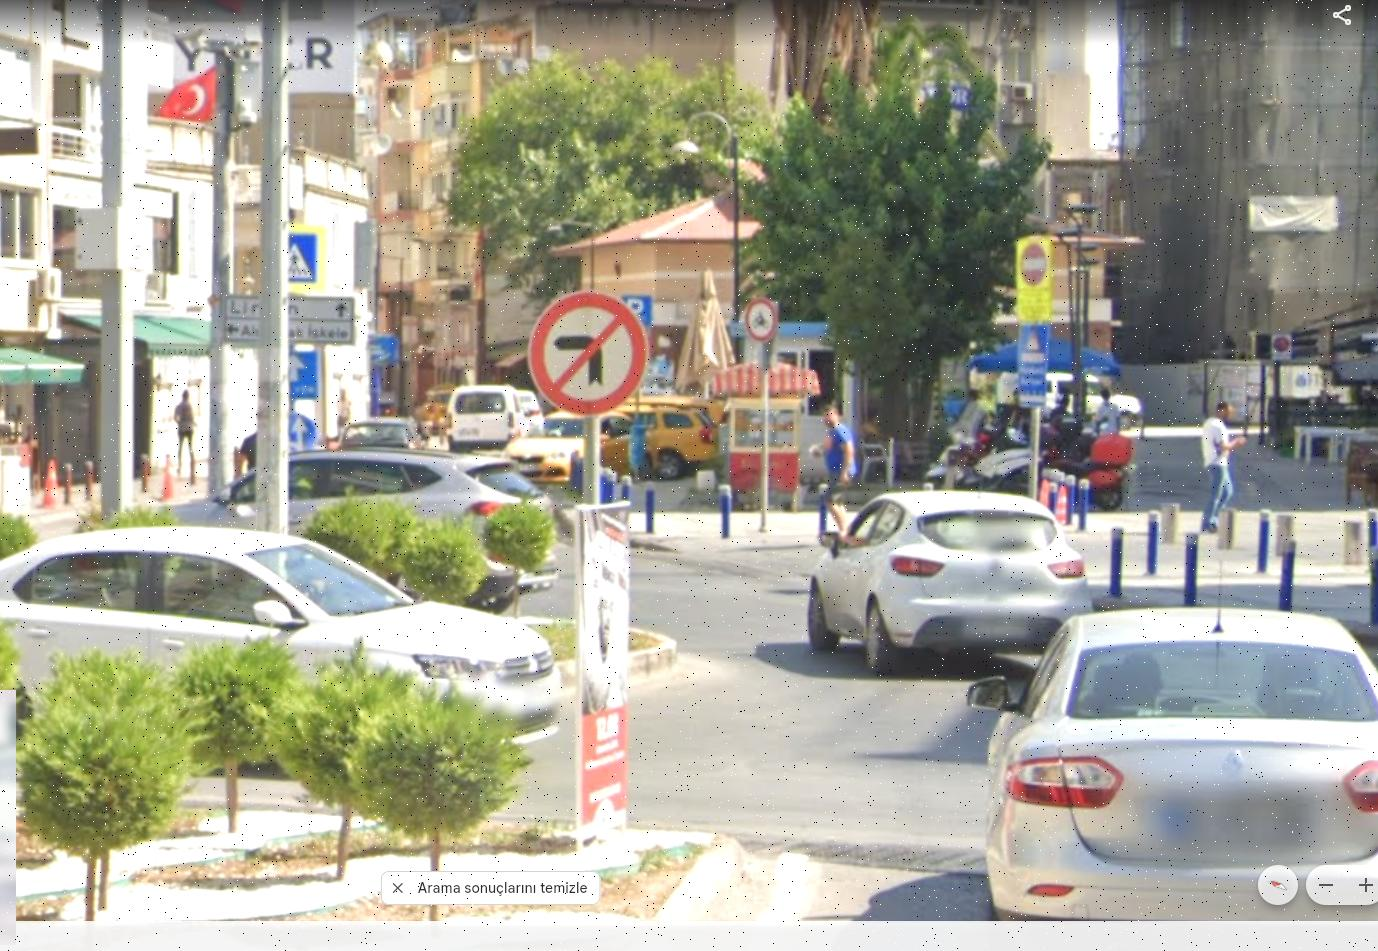leftturnsareforbidden: (537, 295, 644, 413)
